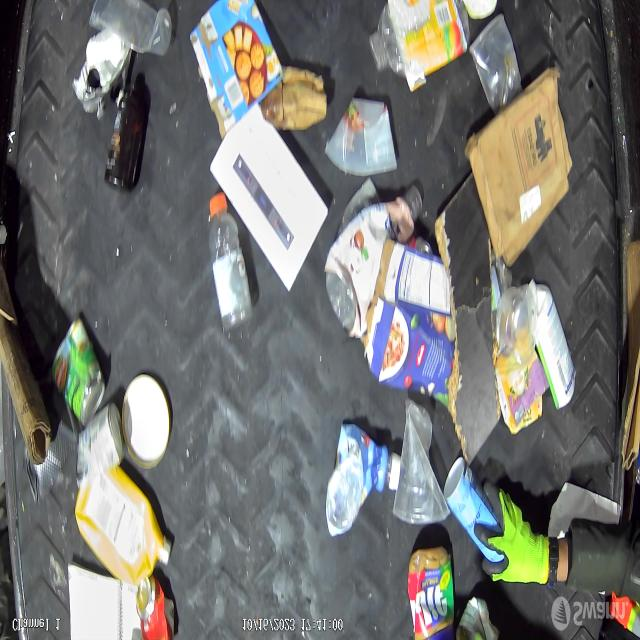can: (50, 313, 107, 419), (405, 536, 461, 640)
plastic_bottle: (204, 179, 252, 338)
